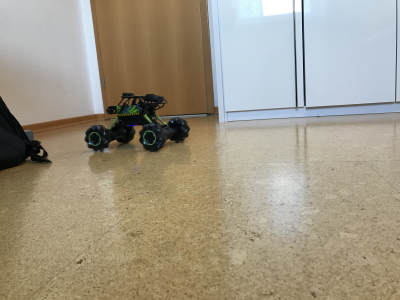remote control car: (77, 89, 194, 154)
